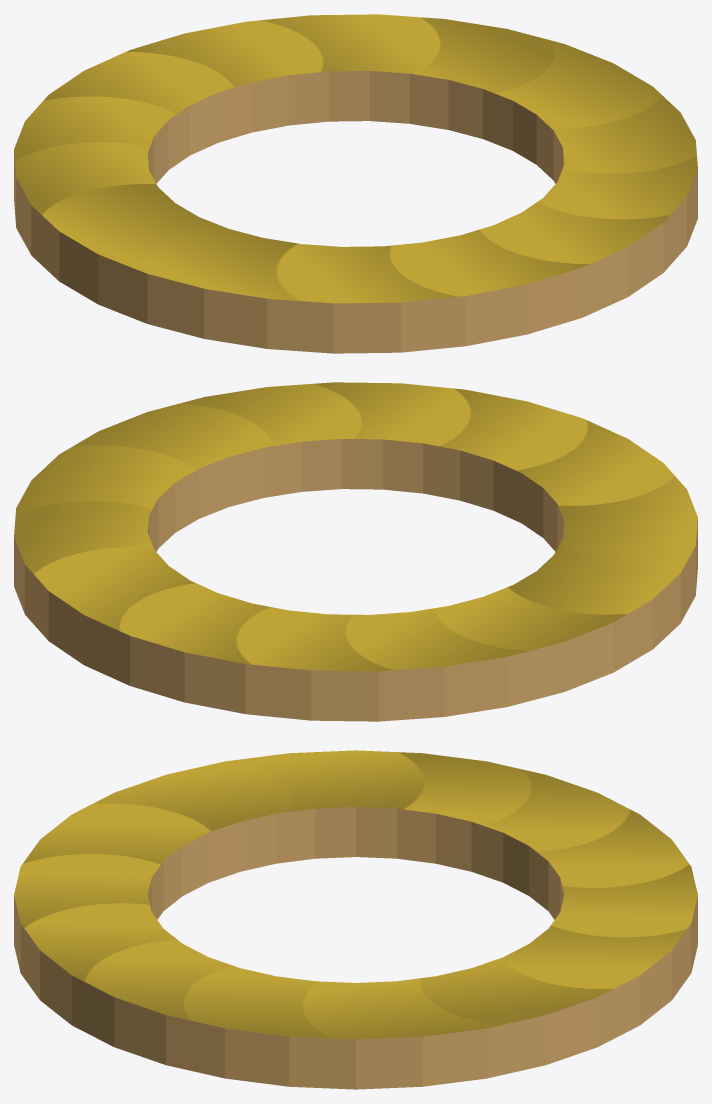
Rendered from lane.fbx.
3 views of the same model, one above another, from view 1: azimuth 30°, elevation 25°; view 2: azimuth 150°, elevation 25°; view 3: azimuth 270°, elevation 25° (orthographic).
Visible parts, largest first — view 1: lane; view 2: lane; view 3: lane.
Part boxes in pixels (x1,y1,x2,y2): lane: (14, 14, 697, 353); lane: (14, 382, 697, 721); lane: (14, 750, 697, 1089).
Bounding box in the file's own units: 200 × 16.16 × 200.
